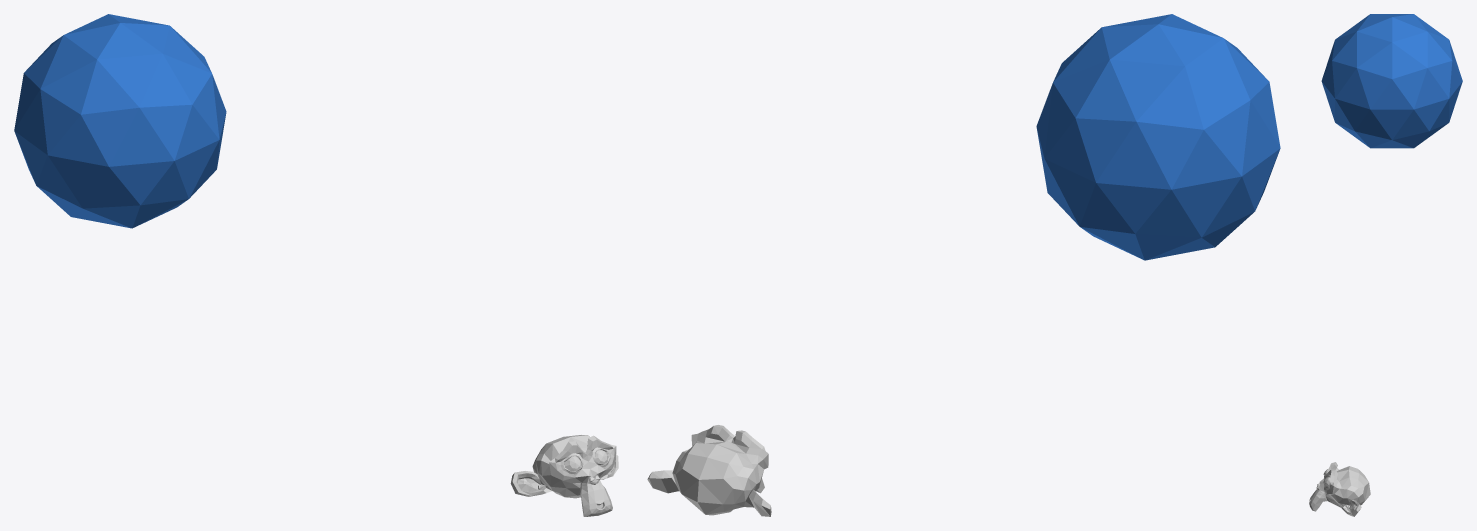
3 renders of one model, left to right at view 1: azimuth 30°, elevation 25°; view 2: azimuth 150°, elevation 25°; view 3: azimuth 270°, elevation 25°, orthographic. The views are drawn at different scales.
Parts seen in each view (by area): view 1: Icosphere, Suzanne; view 2: Icosphere, Suzanne; view 3: Icosphere, Suzanne.
Boxes of the visible parts, x1,y1,x2,y2 form: Icosphere: (14,14,226,228); Suzanne: (510,435,618,516); Icosphere: (1036,14,1280,260); Suzanne: (647,425,771,516); Icosphere: (1321,14,1462,148); Suzanne: (1309,462,1370,516).
Size of the model in its own units: 5.96 by 2.17 by 5.6.
